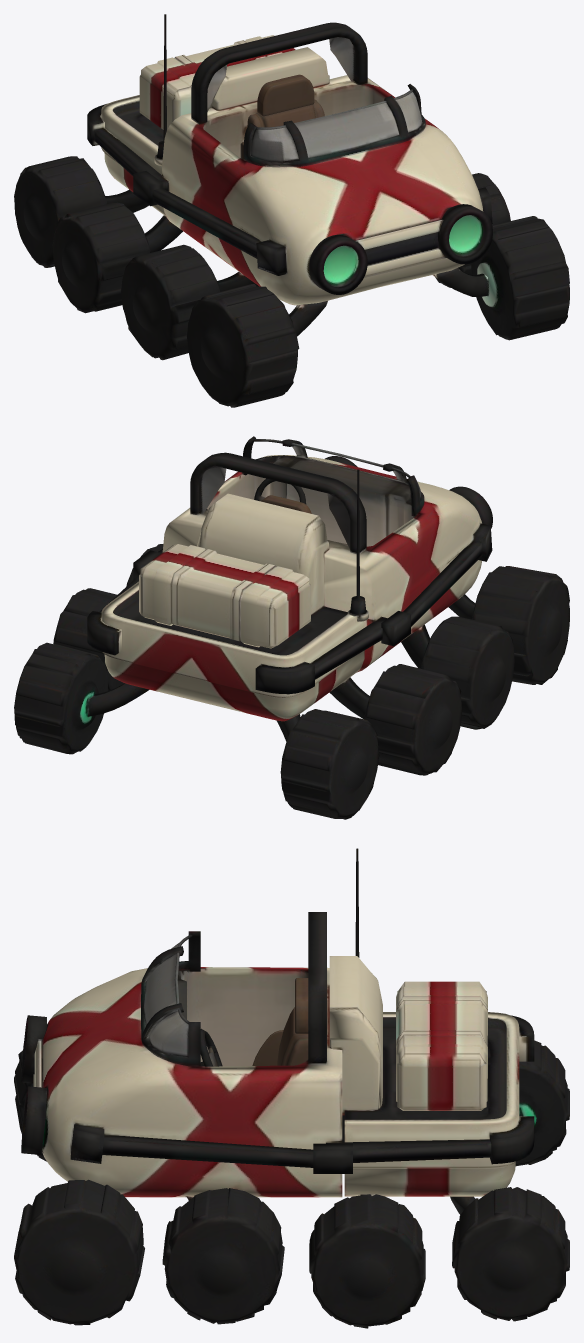
Rendered from rover.glb.
The picture shows the model from 3 angles, top to bottom: view 1: azimuth 30°, elevation 25°; view 2: azimuth 150°, elevation 25°; view 3: azimuth 270°, elevation 25°; orthographic projection. The views are drawn at different scales.
Parts seen in each view (by area): view 1: e1015056_78db_46da_bddd_56af7a05b8a4; view 2: e1015056_78db_46da_bddd_56af7a05b8a4; view 3: e1015056_78db_46da_bddd_56af7a05b8a4.
Boxes of the visible parts, box(x1,y1,x2,y2) form: e1015056_78db_46da_bddd_56af7a05b8a4: box(14, 14, 569, 407); e1015056_78db_46da_bddd_56af7a05b8a4: box(14, 436, 569, 819); e1015056_78db_46da_bddd_56af7a05b8a4: box(14, 848, 569, 1328).
Size of the model in its own units: 0.8979 by 0.6558 by 0.9995.
1 material, 1 textured.
